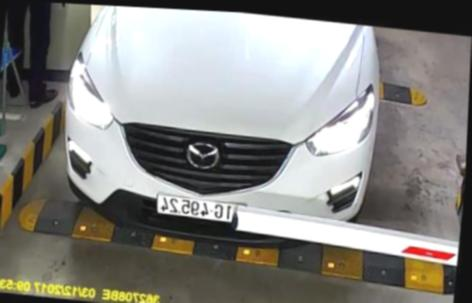License_Plate: (148, 184, 255, 228)
